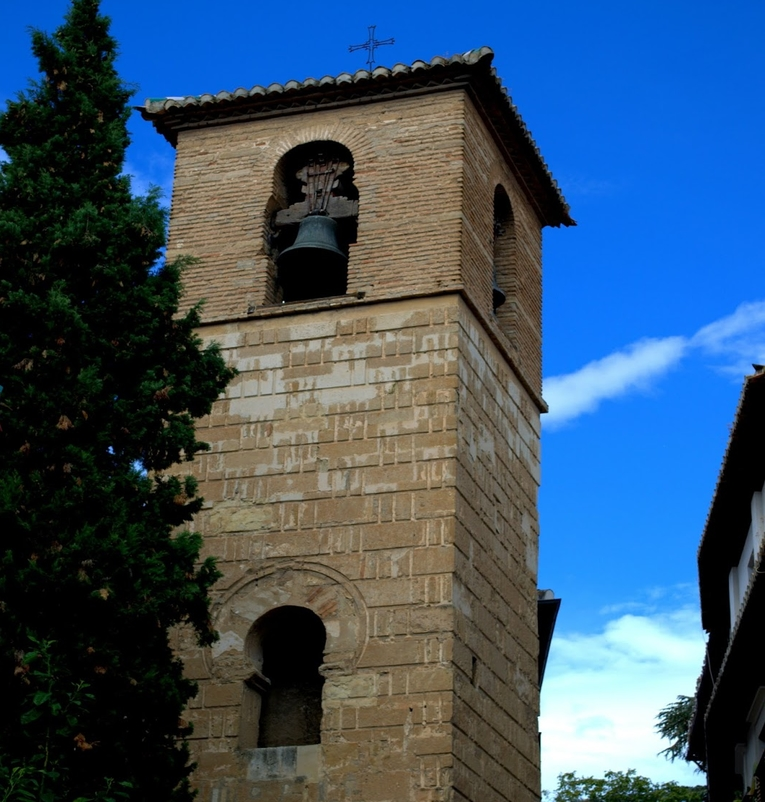arco-herradura: (205, 554, 374, 691)
